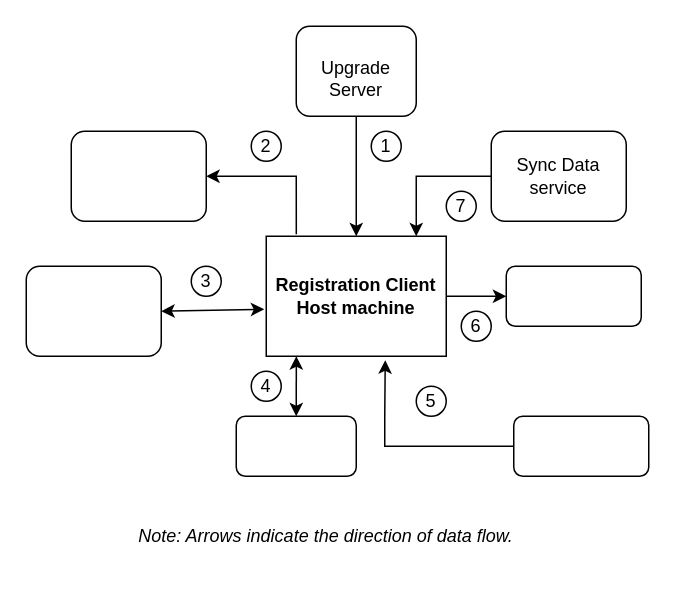
Some shapes in this 675 by 593 pixel diagram are drawn without their labels. The shapes that lost their labels are listed below. From the top down, each one's box as (x1, y1, x2, y2) in pixels, then its label:
(70, 130, 206, 221): Packet Receiver service
(25, 265, 161, 356): Sync status service
(505, 265, 641, 326): Printer
(235, 415, 356, 476): Bio Devices
(512, 415, 649, 476): Scanner
